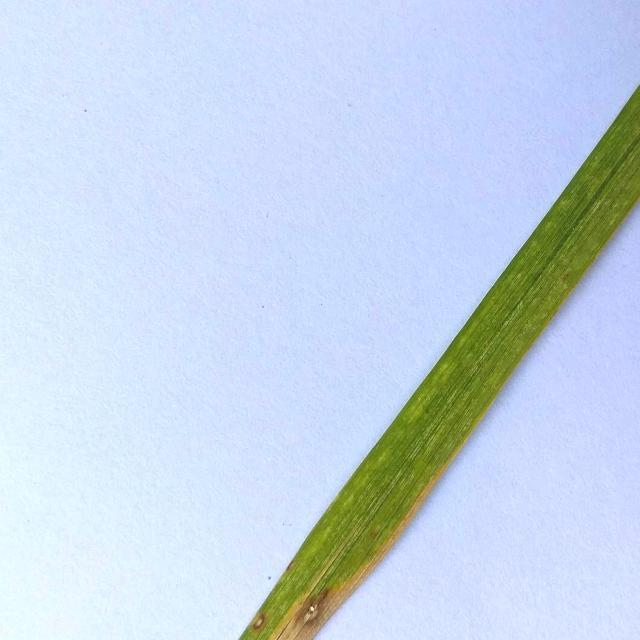Blast: (299, 594, 330, 628), (248, 616, 276, 624)
